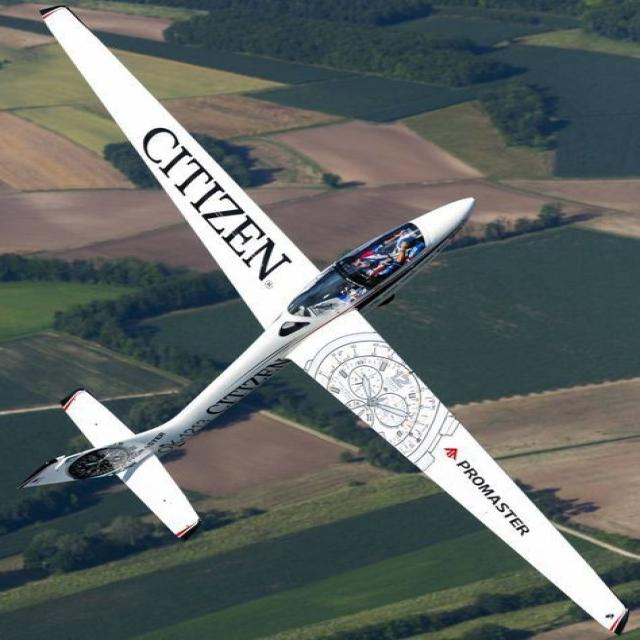iha: (18, 2, 633, 638)
